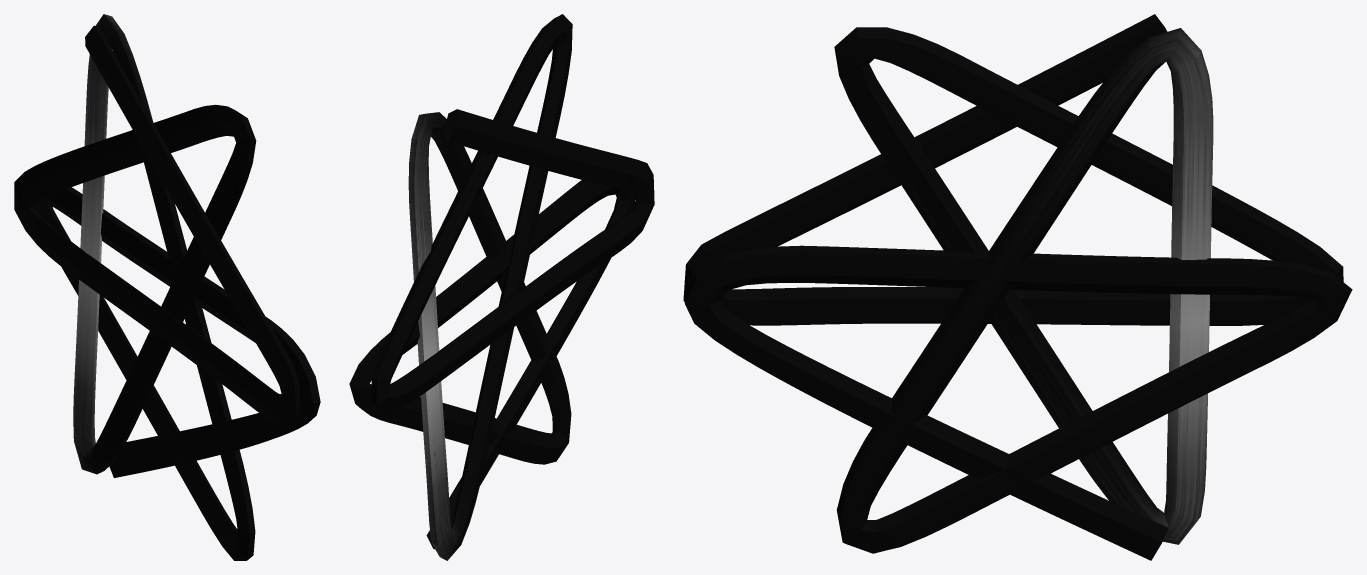
Rendered from RasenkoStar.fbx.
The picture shows the model from 3 angles, left to right: view 1: azimuth 30°, elevation 25°; view 2: azimuth 150°, elevation 25°; view 3: azimuth 270°, elevation 25°; orthographic projection. The views are drawn at different scales.
Visible parts, largest first — view 1: SM_WEP_Eff_LightTrail_01.mo; view 2: SM_WEP_Eff_LightTrail_01.mo; view 3: SM_WEP_Eff_LightTrail_01.mo.
Part boxes in pixels (box(x1,y1,x2,y2)): SM_WEP_Eff_LightTrail_01.mo: box(14, 14, 320, 560); SM_WEP_Eff_LightTrail_01.mo: box(349, 14, 654, 560); SM_WEP_Eff_LightTrail_01.mo: box(683, 14, 1352, 560).
Size of the model in its own units: 14.47 by 185 by 210.
